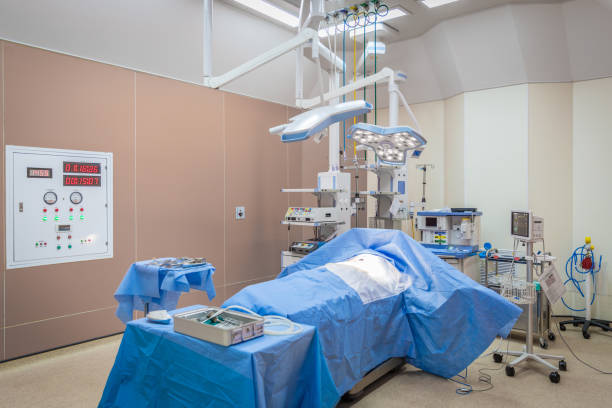bedside_monitor: (511, 210, 545, 242)
electrosurgical_unit: (286, 202, 339, 224), (289, 240, 327, 256)
operating_bed: (220, 229, 522, 405)
surgical_instrument: (143, 256, 206, 269)
surgical_light: (268, 101, 373, 144), (346, 122, 429, 166)
table: (101, 302, 340, 408)
utility_cart: (480, 247, 557, 344)
